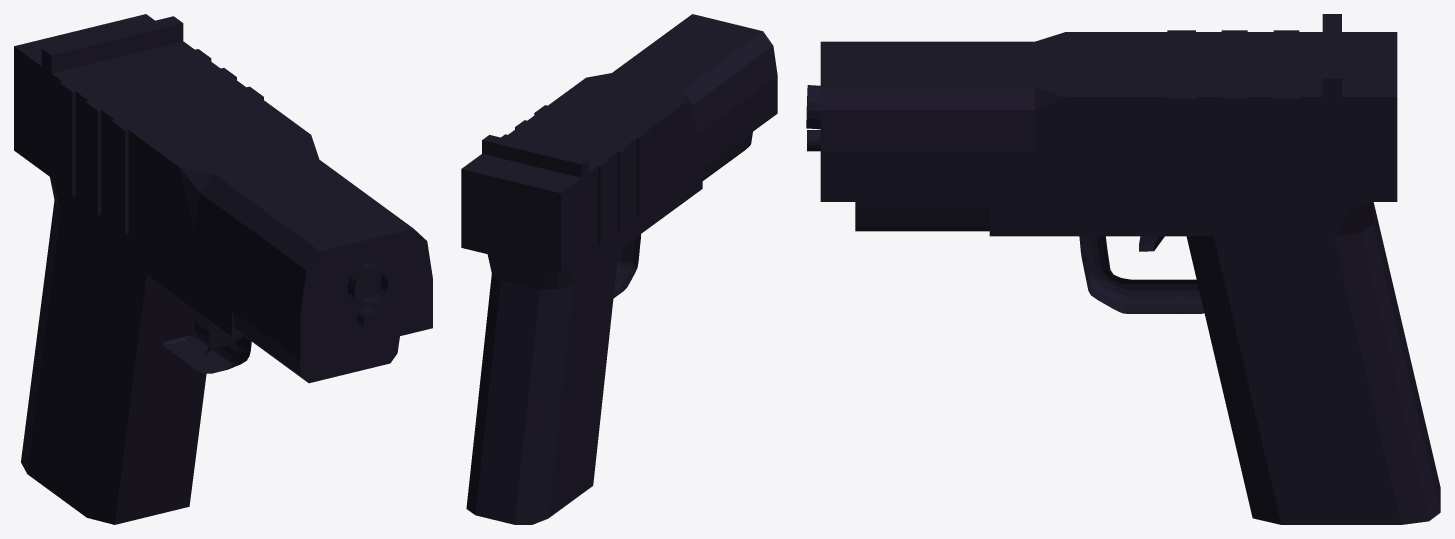
The model's file is pistolaaaaaaaaaaa.fbx.
The picture shows the model from 3 angles, left to right: view 1: azimuth 30°, elevation 25°; view 2: azimuth 150°, elevation 25°; view 3: azimuth 270°, elevation 25°; orthographic projection. The views are drawn at different scales.
Parts seen in each view (by area): view 1: pistola.001; view 2: pistola.001; view 3: pistola.001.
Part boxes in pixels (x1=…): pistola.001: x1=14, y1=14, x2=432, y2=524; pistola.001: x1=461, y1=14, x2=777, y2=524; pistola.001: x1=806, y1=14, x2=1440, y2=524.
Bounding box in the file's own units: 14.08 × 43.65 × 55.31.
Materials: 1 (1 with a texture image).
